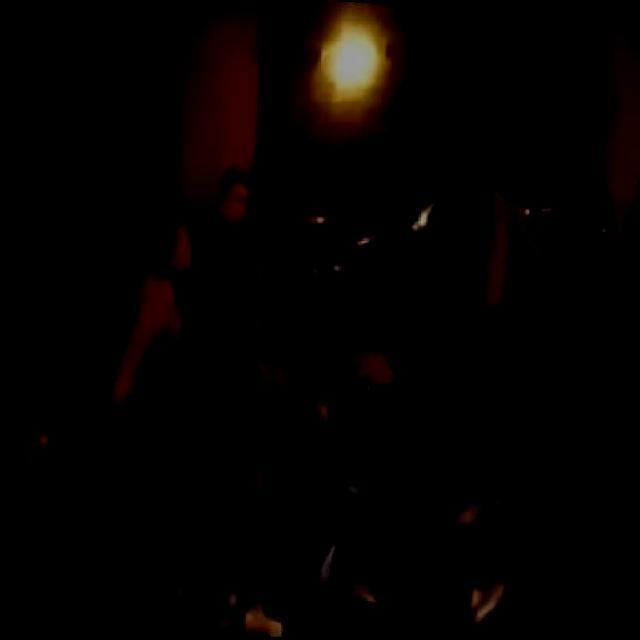fight: (97, 208, 277, 477), (294, 324, 420, 600)
